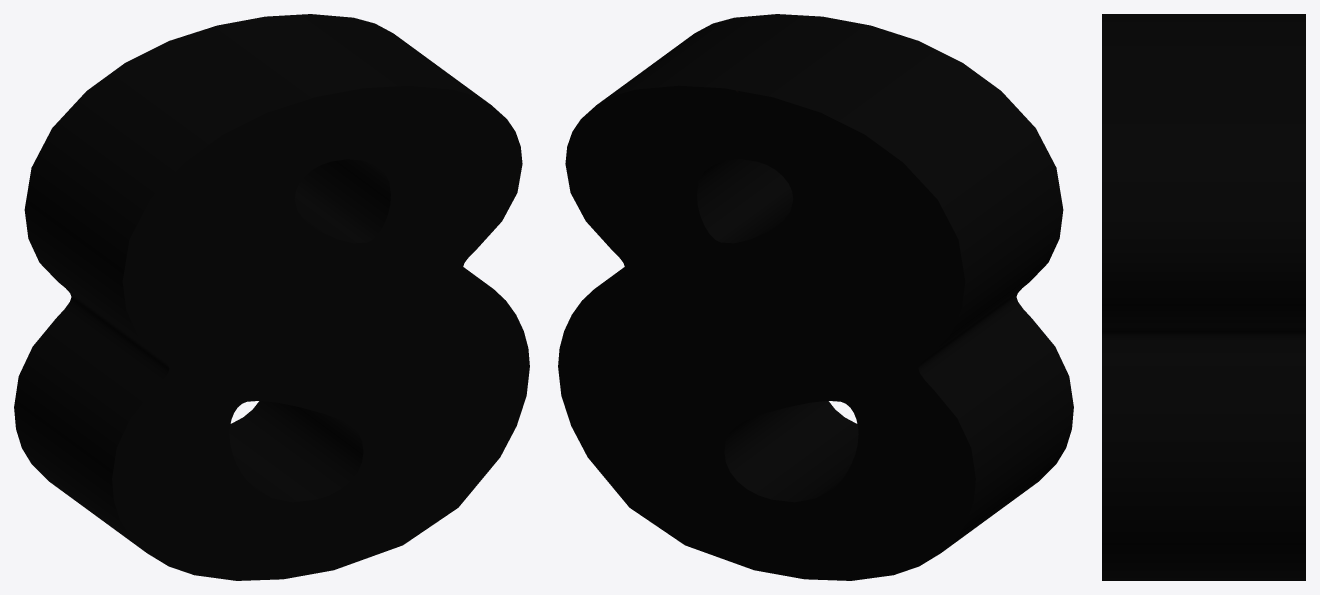
The picture shows the model from 3 angles, left to right: view 1: azimuth 30°, elevation 25°; view 2: azimuth 150°, elevation 25°; view 3: azimuth 270°, elevation 25°; orthographic projection. The views are drawn at different scales.
Visible parts, largest first — view 1: node_id29; view 2: node_id29; view 3: node_id29.
Part boxes in pixels (left/top/right/bottom): node_id29: left=14, top=14, right=529, bottom=580; node_id29: left=558, top=14, right=1073, bottom=580; node_id29: left=1102, top=14, right=1305, bottom=580.
Bounding box in the file's own units: 0.0369 × 0.0403 × 0.015.
Materials: 1 (1 with a texture image).
